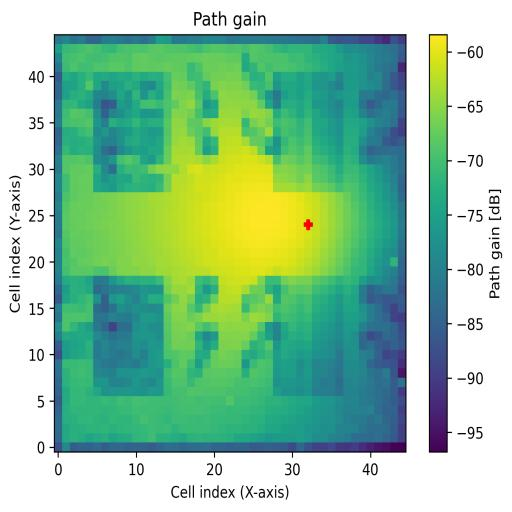Concrete: (274, 69, 344, 192)
Glass: (94, 70, 172, 192)
Metal: (274, 285, 344, 396)
Wood: (94, 276, 164, 397)
